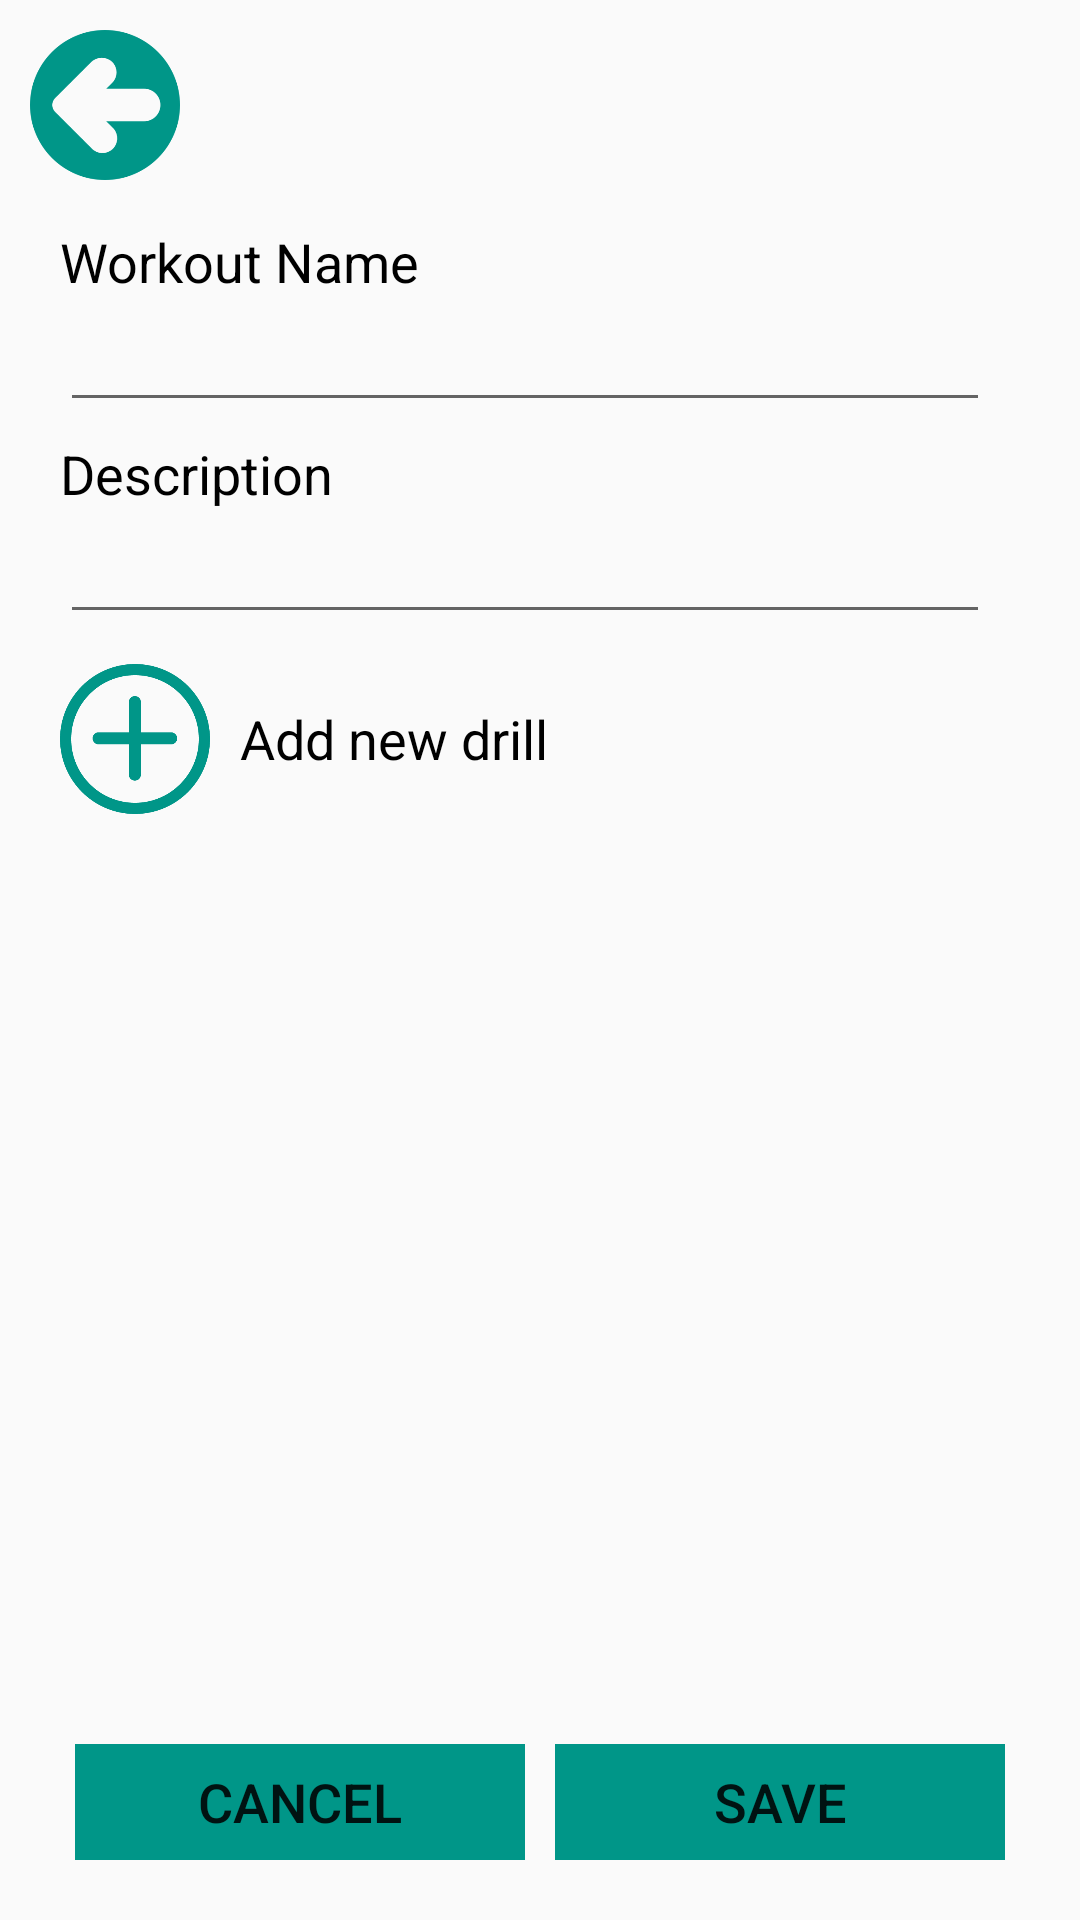

Screen size 1080 x 1920. Icon name, then its box in pixels as (x1, y1, x2, y2):
addicon: (60, 664, 210, 814)
return: (30, 30, 180, 180)
